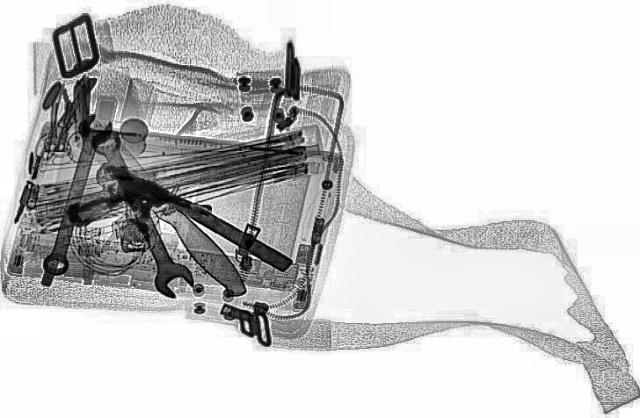Gun: (45, 158, 223, 258)
Knife: (77, 112, 253, 298)
Wrench: (80, 126, 200, 300), (34, 111, 118, 275)
